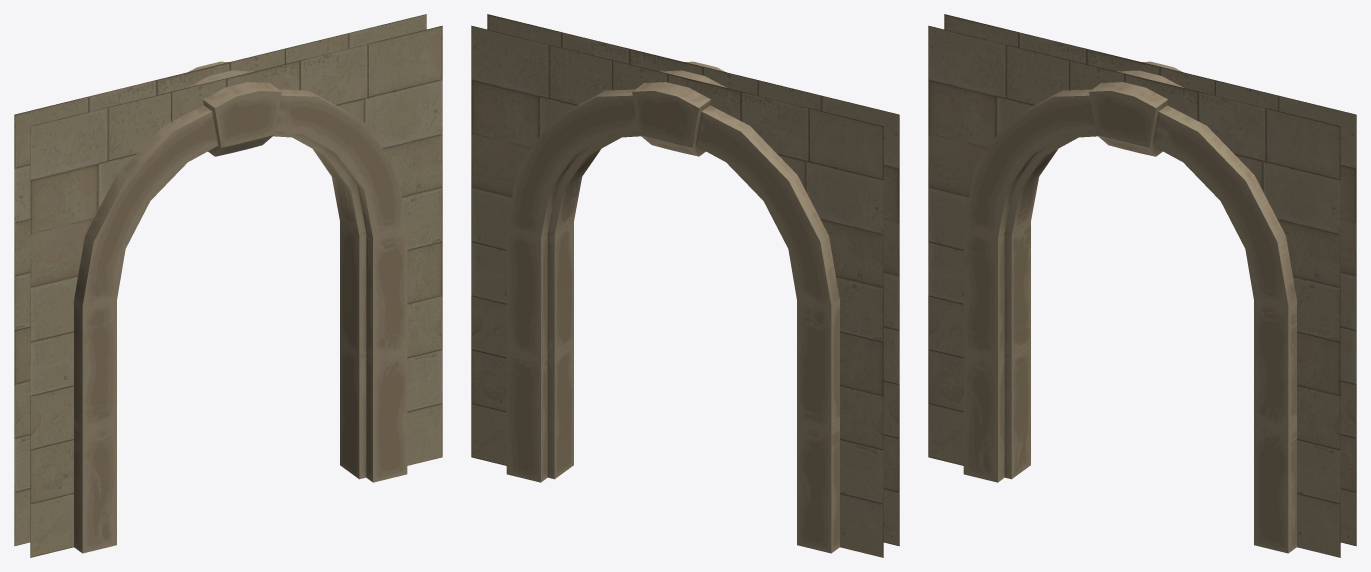
Rendered from ARC0510017.fbx.
The picture shows the model from 3 angles, left to right: view 1: azimuth 30°, elevation 25°; view 2: azimuth 150°, elevation 25°; view 3: azimuth 330°, elevation 25°; orthographic projection.
Visible parts, largest first — view 1: smARC0510017; view 2: smARC0510017; view 3: smARC0510017.
Boxes of the visible parts, <box> form: smARC0510017: <box>14,14,442,557</box>; smARC0510017: <box>471,14,899,557</box>; smARC0510017: <box>928,14,1356,557</box>.
Bounding box in the file's own units: 300 × 300 × 50.24.
Materials: 1 (1 with a texture image).
